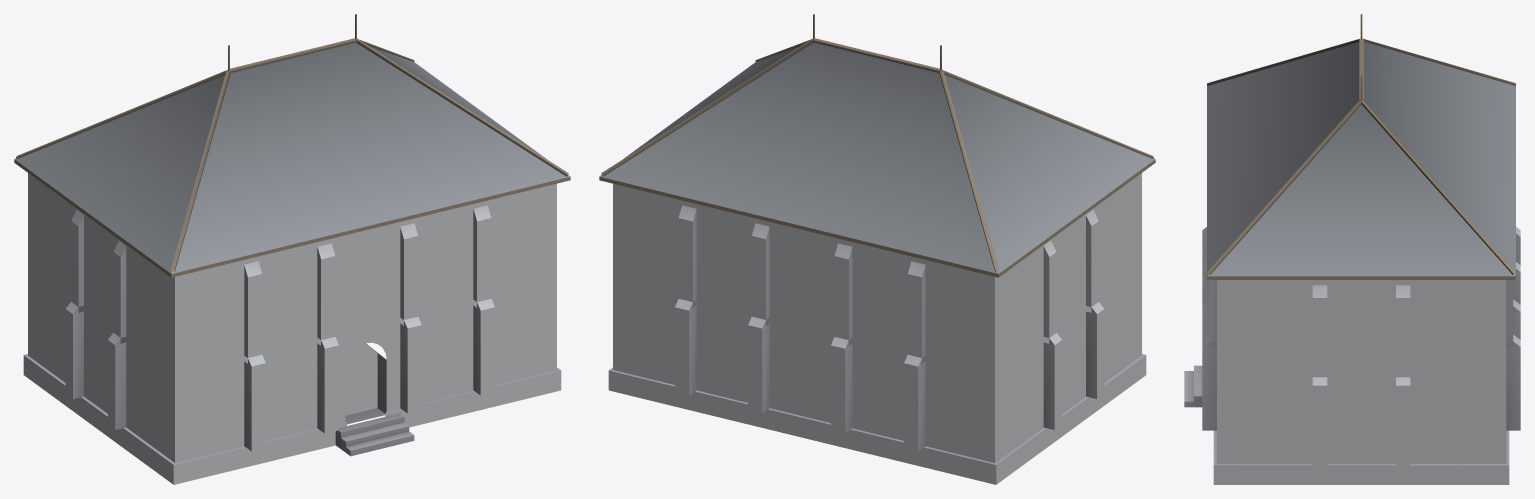
The model's file is sg_court_hall_l1.glb.
3 renders of one model, left to right at view 1: azimuth 30°, elevation 25°; view 2: azimuth 150°, elevation 25°; view 3: azimuth 270°, elevation 25°, orthographic.
Visible parts, largest first — view 1: sg_court_hall_l1_SG_Far, sg_court_hall_l1_SG_Slate, sg_court_hall_l1_SG_Stone, sg_court_hall_l1_SG_Joinery; view 2: sg_court_hall_l1_SG_Far, sg_court_hall_l1_SG_Slate, sg_court_hall_l1_SG_Stone, sg_court_hall_l1_SG_Joinery; view 3: sg_court_hall_l1_SG_Slate, sg_court_hall_l1_SG_Far, sg_court_hall_l1_SG_Stone, sg_court_hall_l1_SG_Joinery.
Boxes of the visible parts, box(x1,y1,x2,y2) form: sg_court_hall_l1_SG_Far: box(23, 173, 561, 484); sg_court_hall_l1_SG_Slate: box(14, 42, 570, 273); sg_court_hall_l1_SG_Stone: box(24, 205, 560, 464); sg_court_hall_l1_SG_Joinery: box(14, 14, 570, 277); sg_court_hall_l1_SG_Far: box(608, 173, 1146, 484); sg_court_hall_l1_SG_Slate: box(599, 42, 1155, 273); sg_court_hall_l1_SG_Stone: box(609, 205, 1145, 464); sg_court_hall_l1_SG_Joinery: box(599, 14, 1155, 277); sg_court_hall_l1_SG_Slate: box(1207, 42, 1515, 276); sg_court_hall_l1_SG_Far: box(1213, 280, 1509, 484); sg_court_hall_l1_SG_Stone: box(1184, 227, 1520, 465); sg_court_hall_l1_SG_Joinery: box(1207, 14, 1516, 279).
Bounding box in the file's own units: 25.4 × 21.18 × 18.6.
